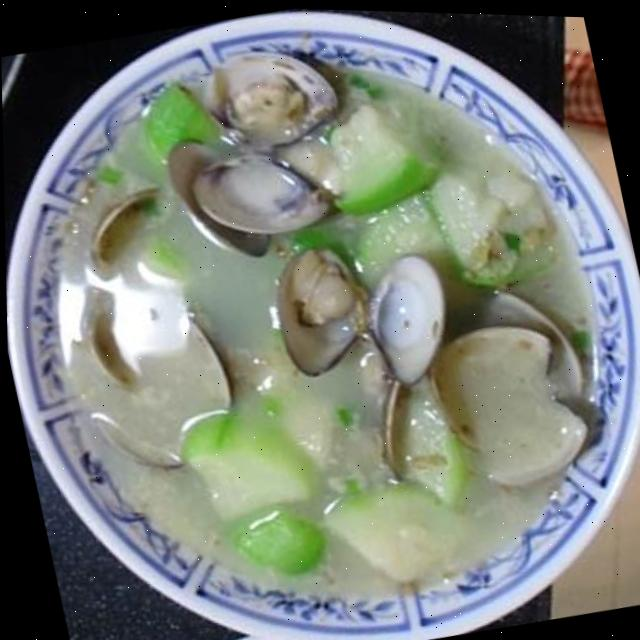Wet: (29, 55, 599, 602)
